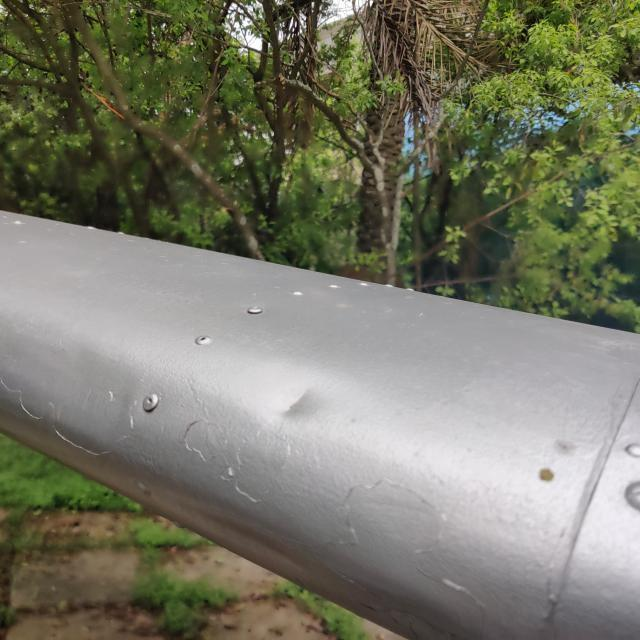dent: (260, 365, 339, 440)
